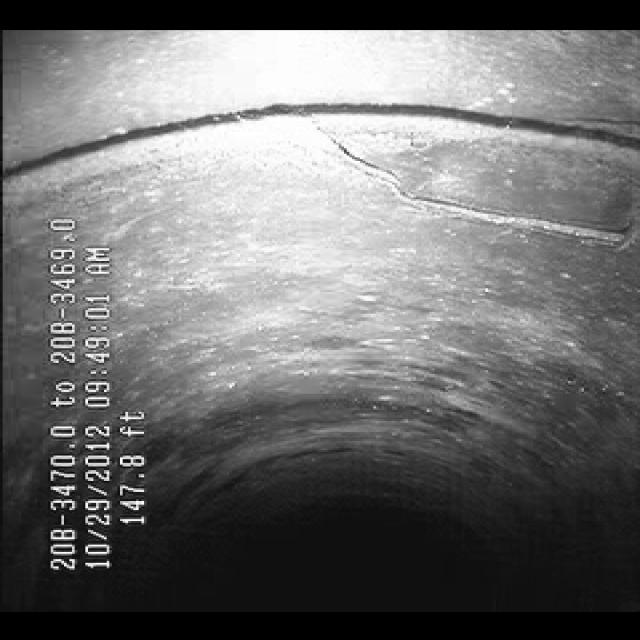Fracture: (248, 122, 628, 254)
